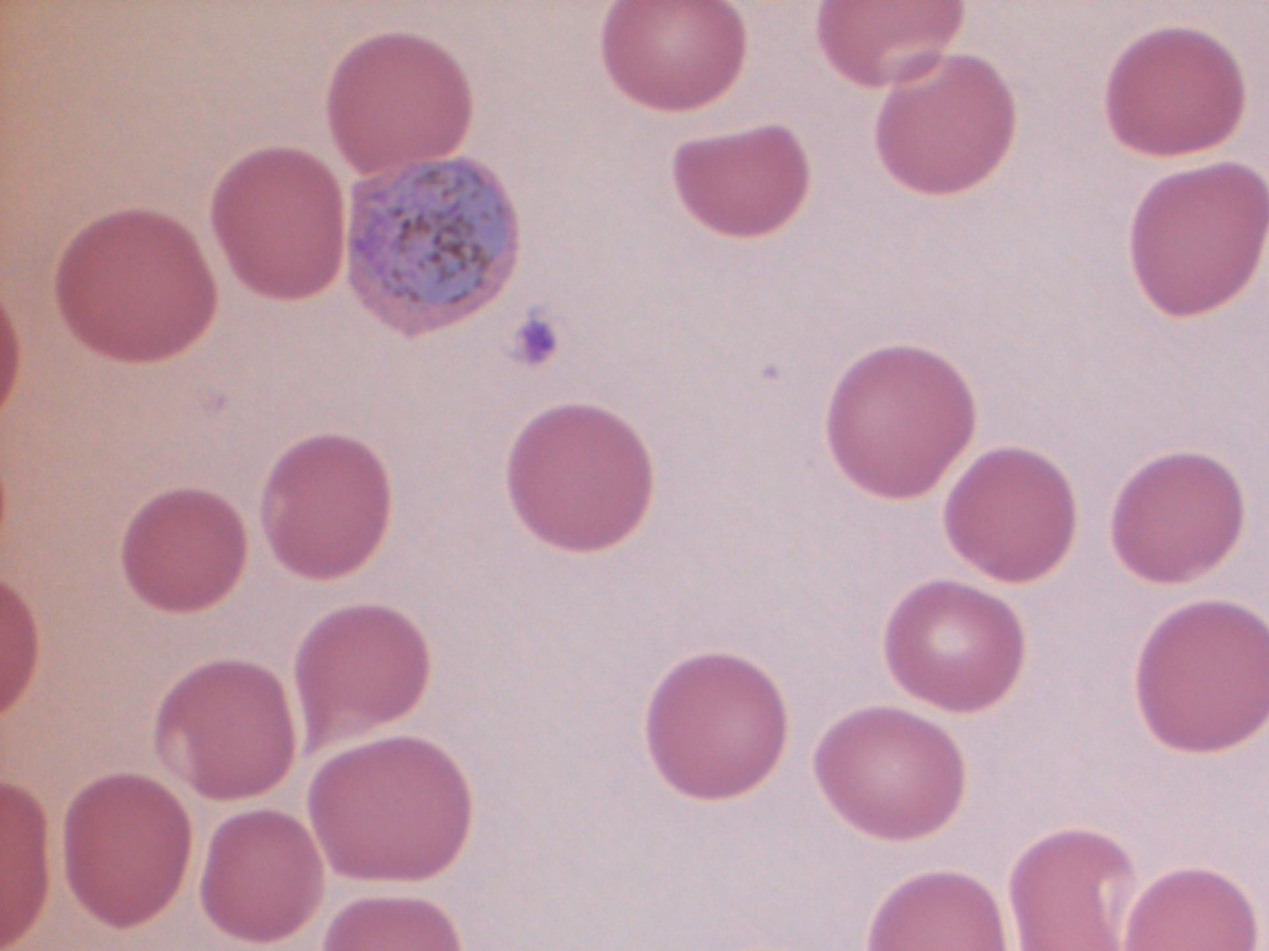Infected: (341, 151, 514, 342)
Uninfected: (53, 211, 215, 363), (309, 738, 471, 880), (1132, 164, 1269, 321), (827, 348, 973, 494), (507, 407, 648, 549), (646, 656, 786, 799), (153, 662, 297, 801), (327, 35, 473, 171), (63, 776, 192, 929), (1136, 603, 1269, 751), (211, 151, 344, 299), (292, 608, 428, 750), (814, 710, 963, 838), (877, 57, 1014, 194), (260, 436, 390, 576), (884, 582, 1024, 711), (945, 450, 1075, 581), (1107, 28, 1242, 154), (1112, 456, 1242, 583), (120, 489, 248, 612), (199, 812, 322, 939), (1008, 832, 1134, 951), (602, 1, 740, 109), (674, 126, 806, 235), (818, 2, 961, 87), (1124, 868, 1253, 950), (867, 874, 1005, 949), (323, 897, 457, 949)
